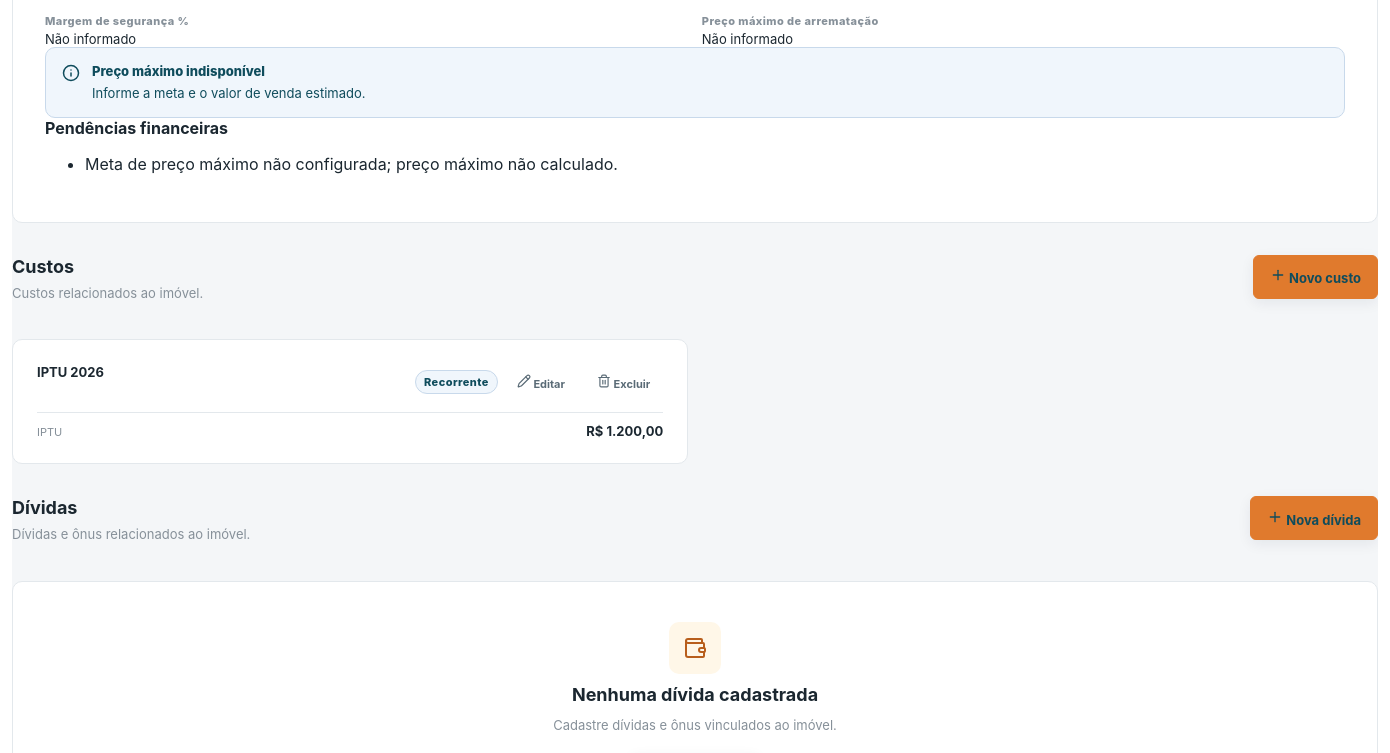
Test: FinancialSection › edita um custo e recalcula o financeiro
The width and height of the screenshot is (1390, 753).
(page scrolled)
Expected: the text "IPTU 2026" is shown, [37, 364, 104, 380]
Click the button "Editar" at point(541, 382), box [504, 364, 578, 400]
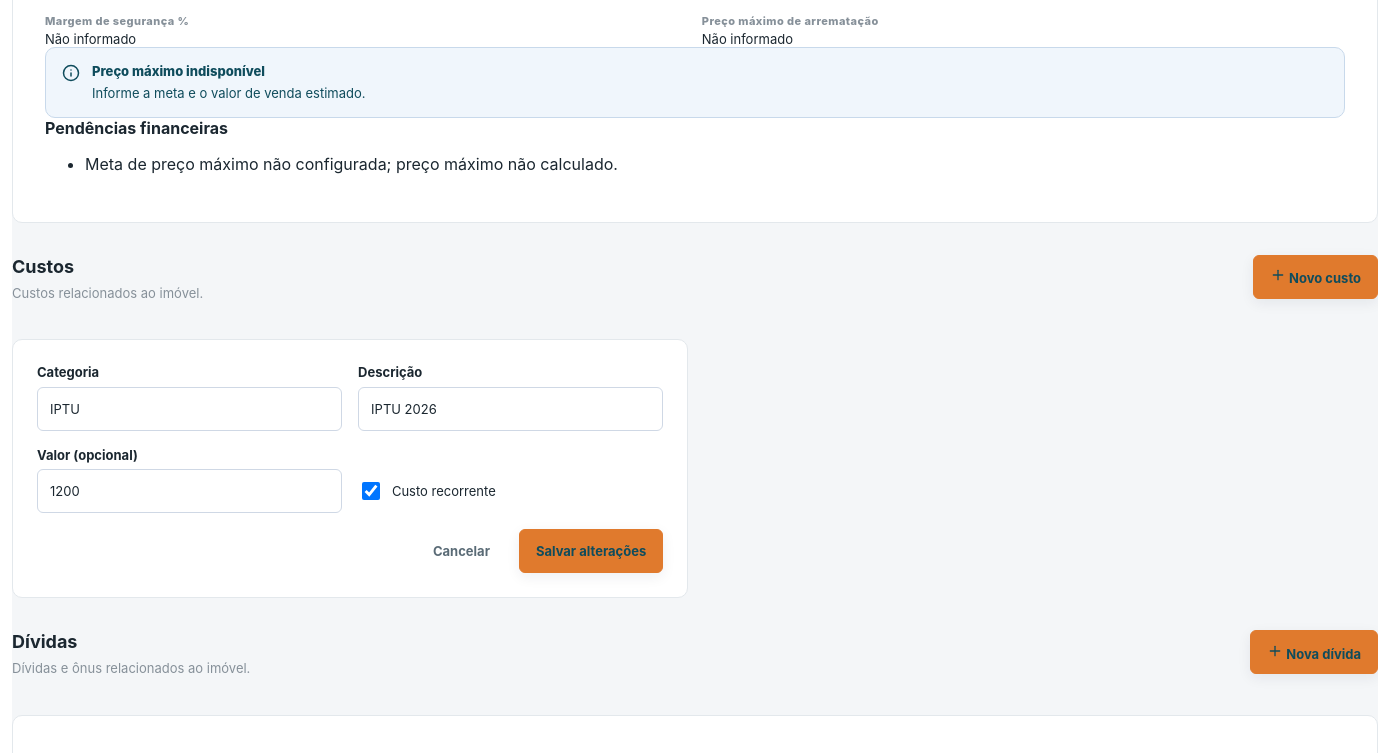
Replace the text in the number field labelled "Valor (opcional)" with "1500" at point(190, 491), box [37, 469, 342, 513]
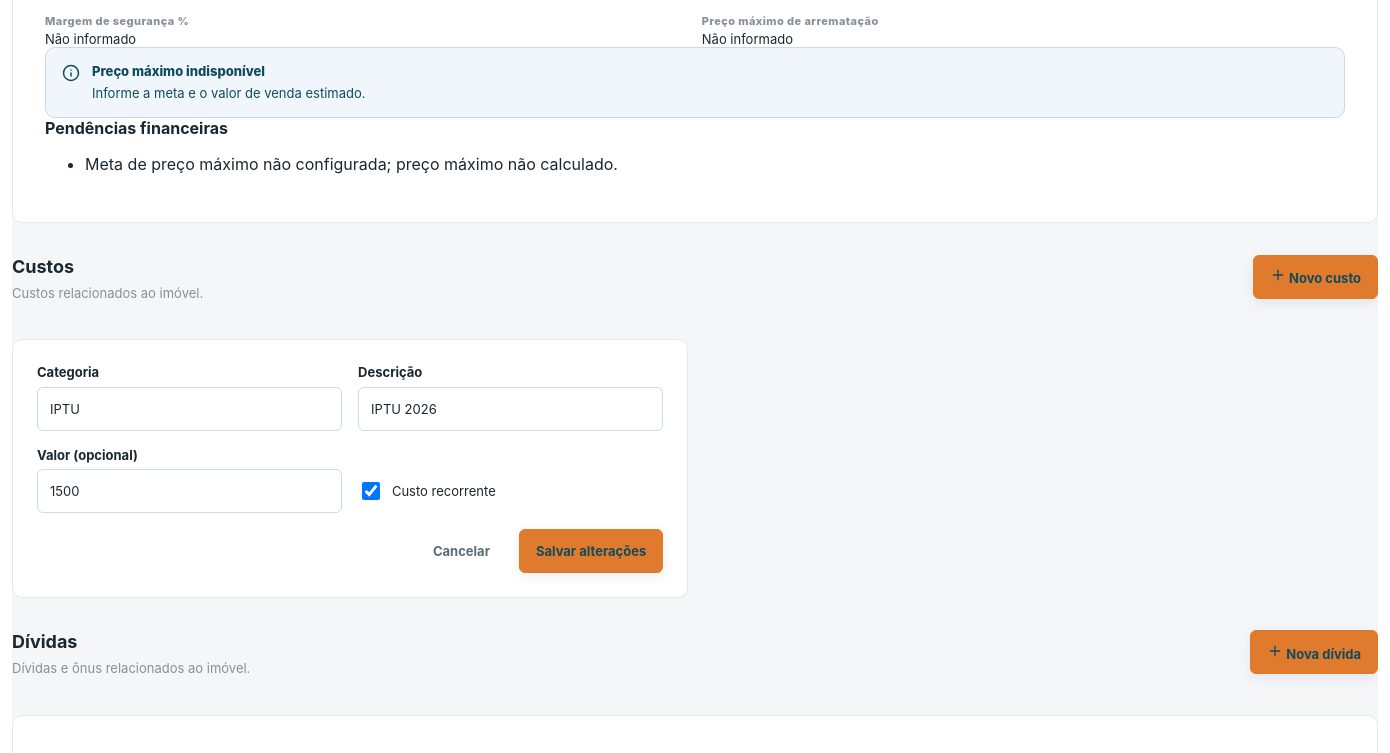
Click the button "Salvar alterações" at point(591, 551), box [519, 529, 663, 573]
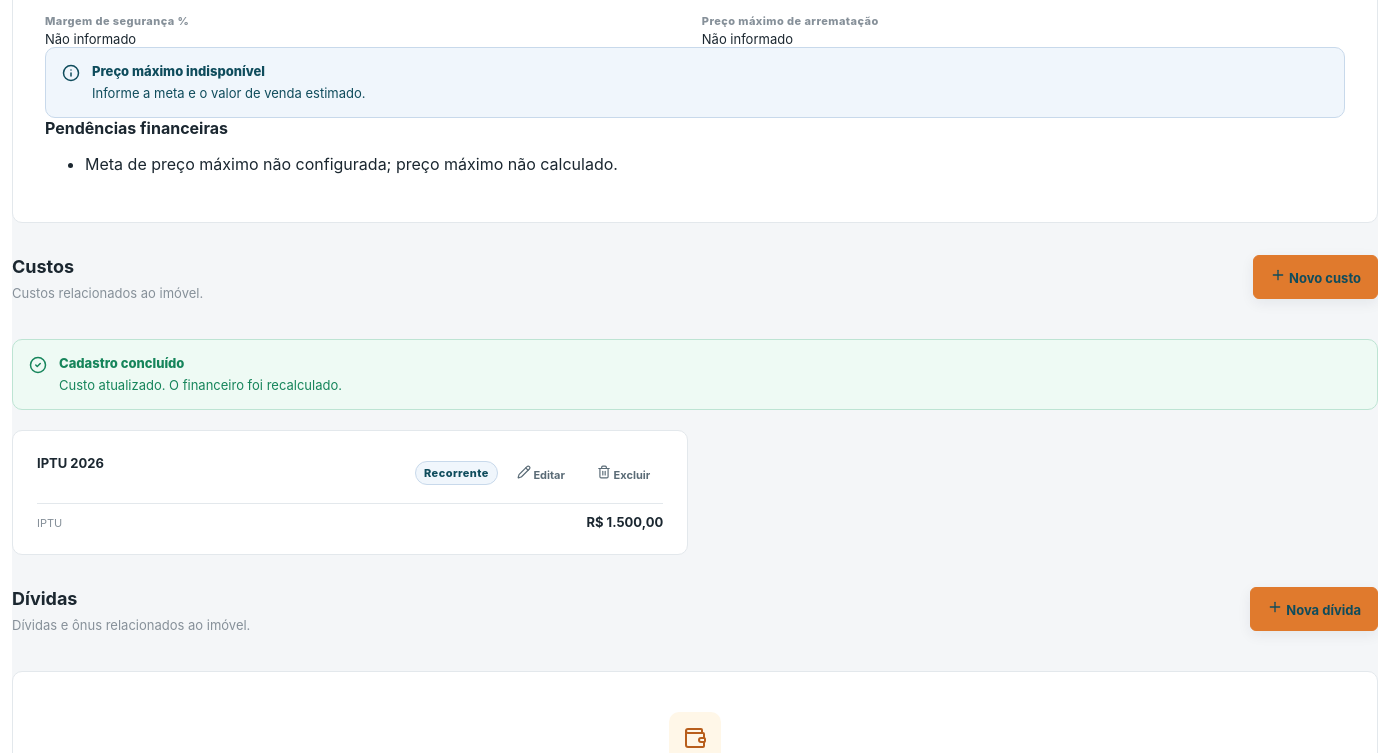
Result: the text "Custo atualizado. O financeiro foi recalculado." is shown at [59, 377, 342, 393]
